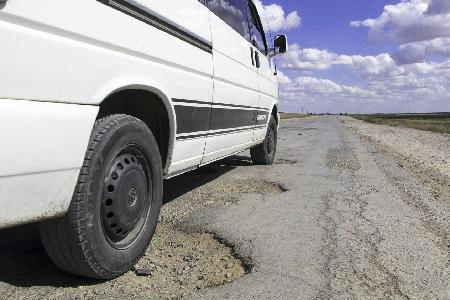pothole: (115, 218, 257, 296), (212, 176, 287, 196), (269, 155, 296, 164)
